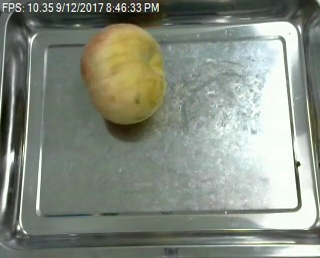Peach: (81, 22, 166, 124)
